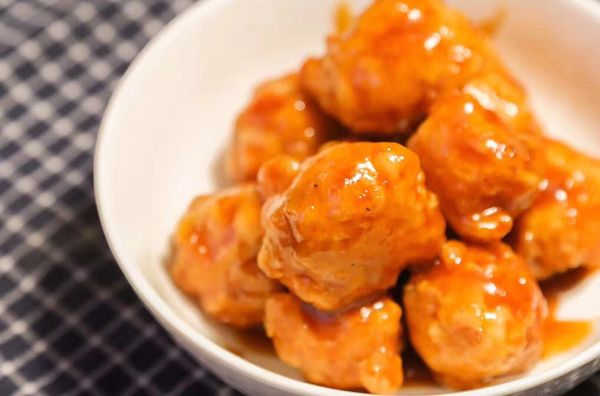sushi: (92, 3, 600, 390)
